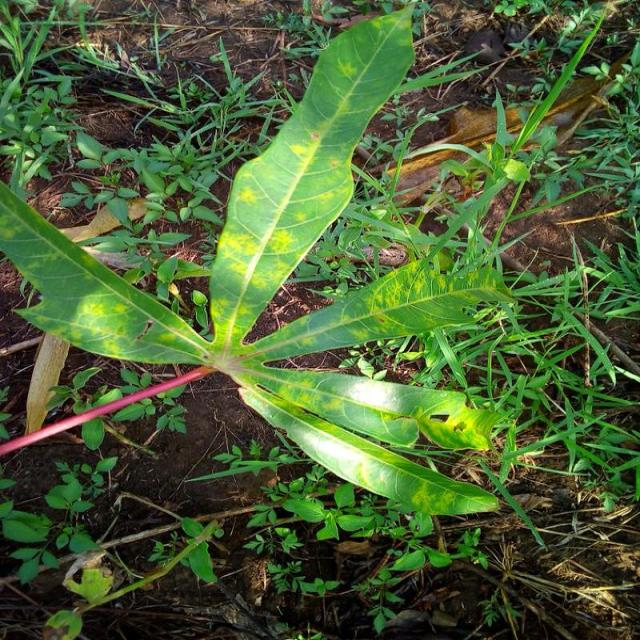cassava leaf: (1, 5, 518, 525), (208, 2, 418, 352)
